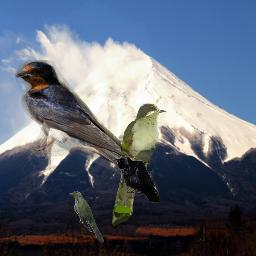Crow: (113, 156, 161, 203)
Cuckoo: (112, 103, 167, 226), (69, 191, 105, 243)
Swallow: (15, 60, 156, 182)
